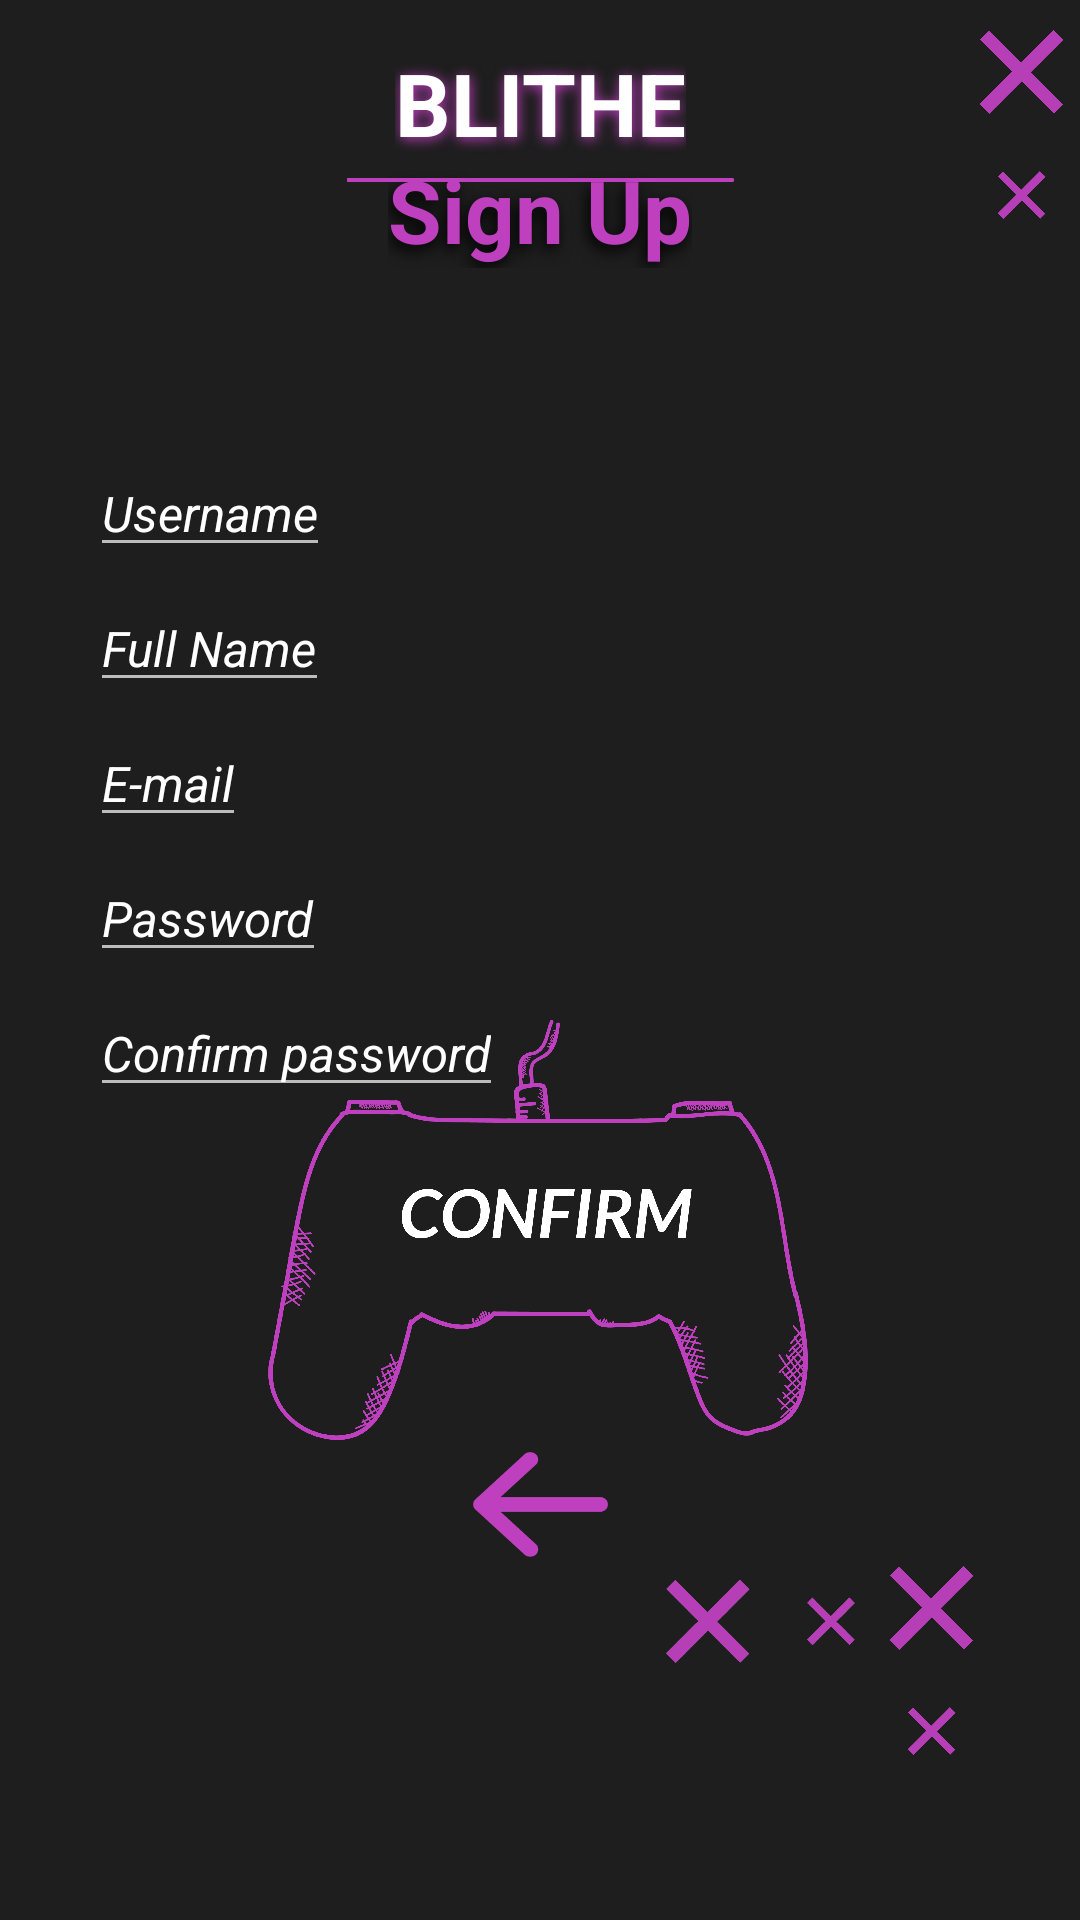

Point at icon controls on the screen. Image size 1080px x 1920px, points as [x,y].
flecheback: [540,1504]
